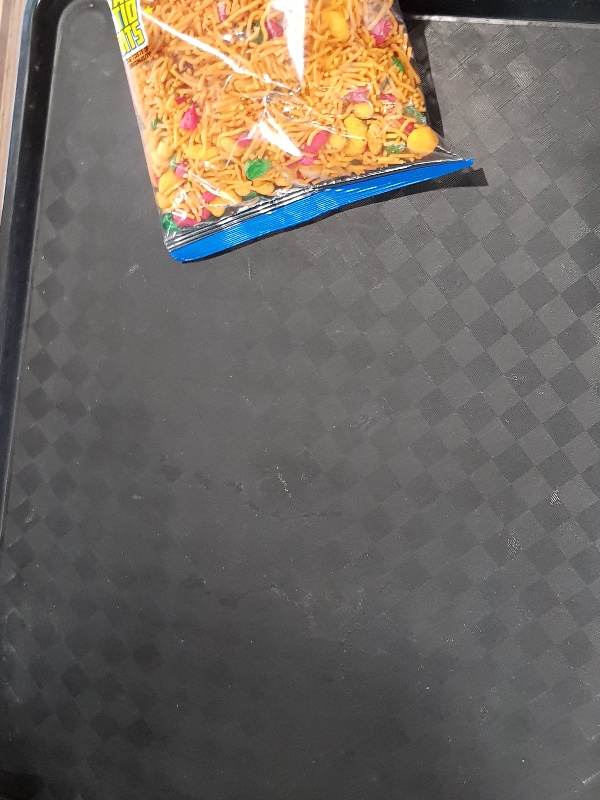Star Tidbits Mixer: (106, 1, 475, 262)
